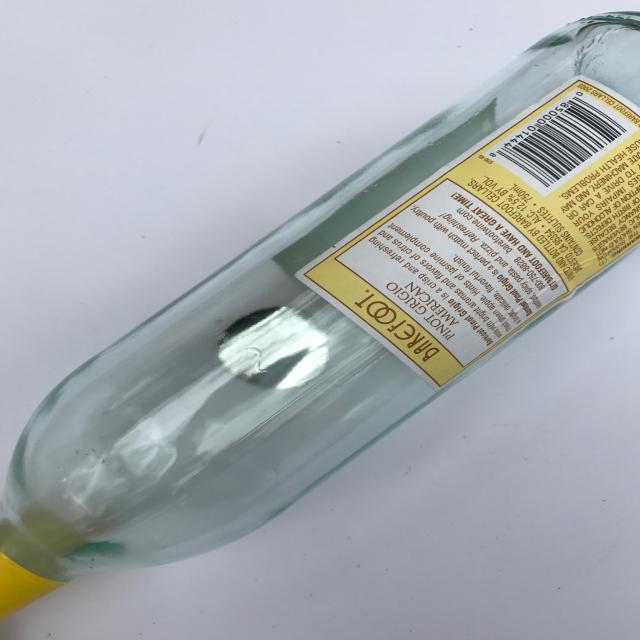glass: (0, 10, 640, 629)
